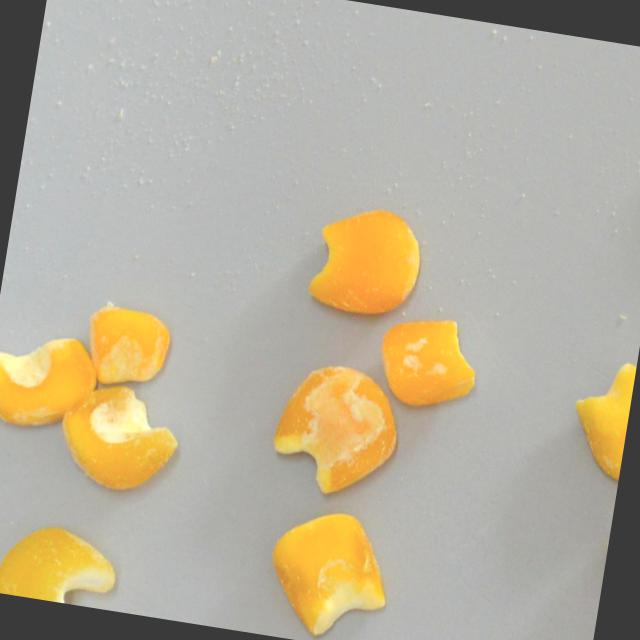pelicula: (266, 357, 407, 503), (258, 502, 400, 640), (53, 377, 185, 498), (303, 197, 427, 323), (369, 309, 484, 418), (0, 324, 103, 438), (0, 516, 121, 611), (564, 354, 637, 480), (79, 300, 175, 394)
